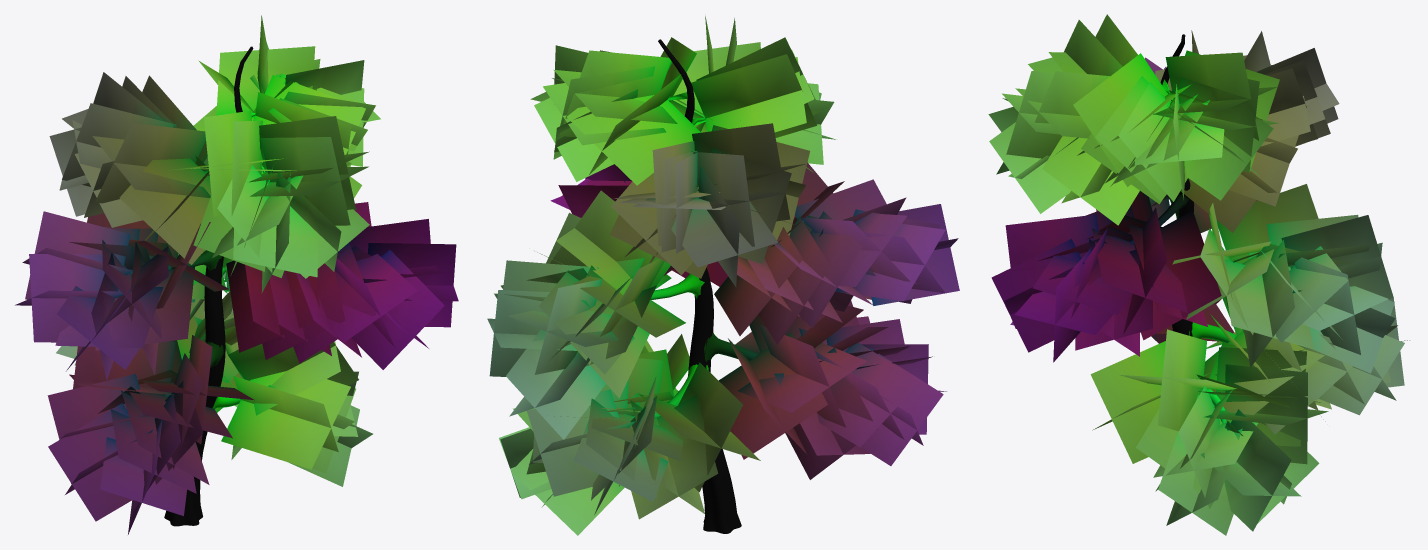
Rendered from URP_P14_Tree_3_LOD_0.fbx.
3 renders of one model, left to right at view 1: azimuth 30°, elevation 25°; view 2: azimuth 150°, elevation 25°; view 3: azimuth 270°, elevation 25°, orthographic. The views are drawn at different scales.
Parts seen in each view (by area): view 1: Tree_3_LOD_0; view 2: Tree_3_LOD_0; view 3: Tree_3_LOD_0.
Part boxes in pixels (x1,y1,x2,y2): Tree_3_LOD_0: (15,15,458,534); Tree_3_LOD_0: (487,16,959,535); Tree_3_LOD_0: (988,14,1409,535).
Bounding box in the file's own units: 452 × 496 × 417.
